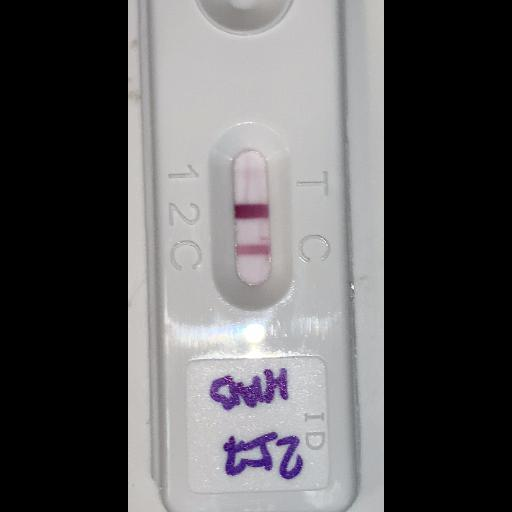Pos: (139, 0, 360, 511)
